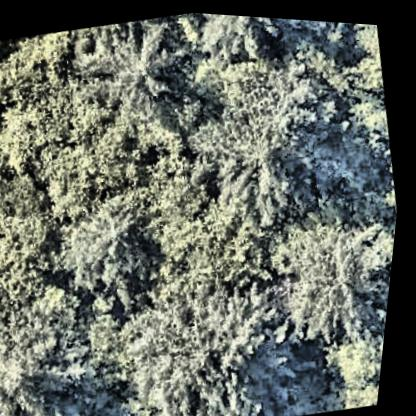tree-top: (104, 262, 310, 416), (190, 57, 356, 218), (265, 198, 401, 352), (0, 265, 118, 416), (53, 188, 175, 294), (77, 11, 190, 124), (0, 163, 71, 278), (187, 10, 315, 72), (321, 317, 392, 408), (336, 50, 398, 143)
